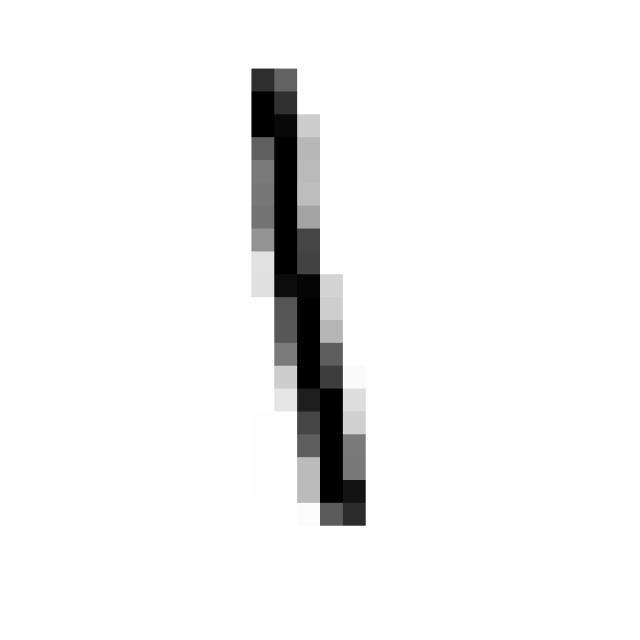1 -one-: (224, 46, 389, 550)
